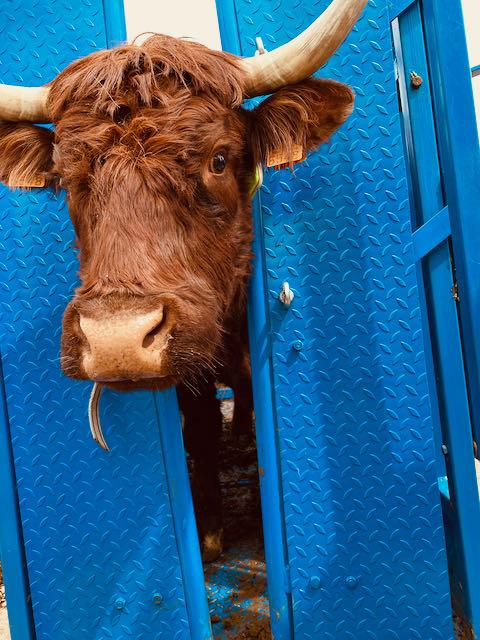muzzles: (50, 308, 202, 391)
